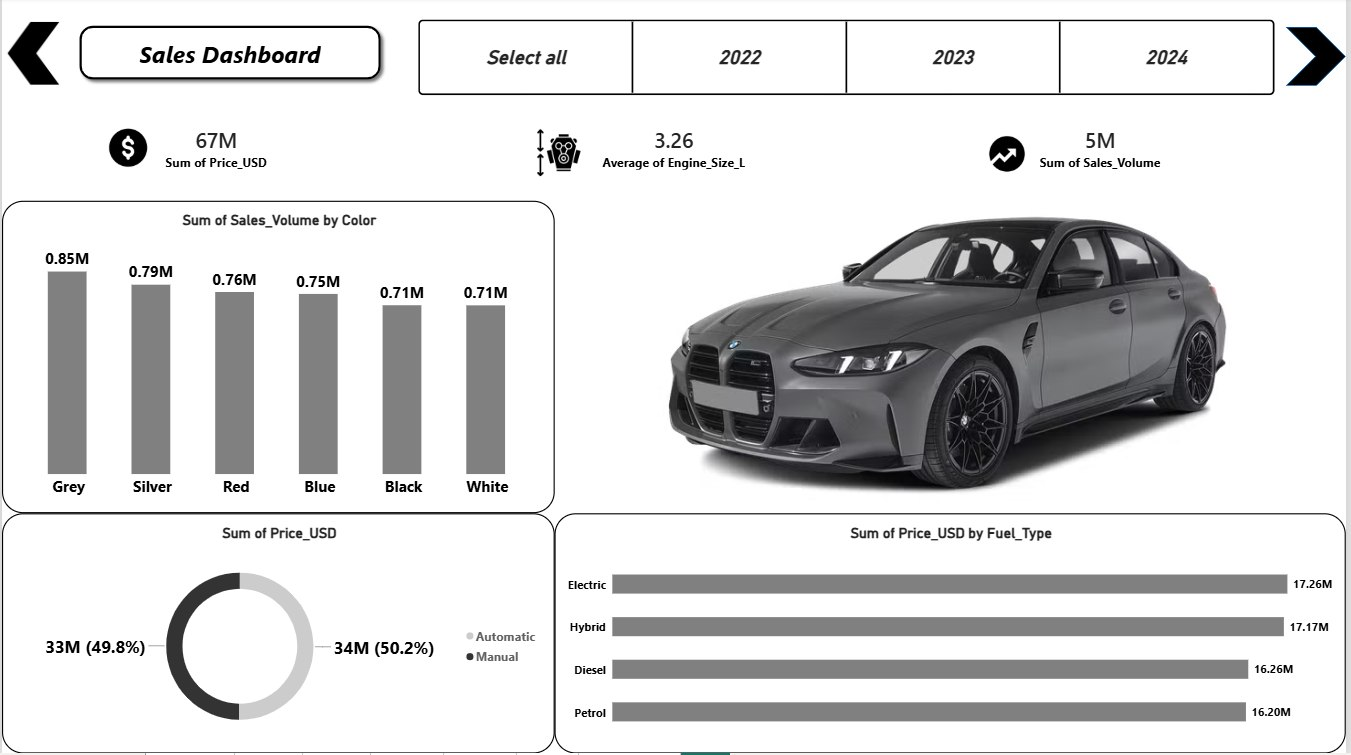

What the dashboard file says about the page in this screenshot:
{"tool":"powerbi","page":{"name":"M3","canvas":[1920,1080],"ordinal":3},"visuals":[{"type":"shape","box":[101.8,32.1,448.2,94.6],"z":0},{"type":"advancedSlicerVisual","fields":{"Values":["BMW_Car_Sales_Classification - BMW_Car_Sales_Classification.Year"]},"box":[594.6,32.1,1226.8,108.9],"z":1000},{"type":"cardVisual","fields":{"Data":["Sum(BMW_Car_Sales_Classification - BMW_Car_Sales_Classification.Price_USD)"]},"box":[82.1,141.1,448,150],"z":2000},{"type":"cardVisual","fields":{"Data":["Sum(BMW_Car_Sales_Classification - BMW_Car_Sales_Classification.Sales_Volume)"]},"box":[1344.6,141.1,448,150],"z":3000},{"type":"cardVisual","fields":{"Data":["Avg(BMW_Car_Sales_Classification - BMW_Car_Sales_Classification.Engine_Size_L)"]},"box":[735.7,141.1,448,150],"z":4000},{"type":"image","box":[148.2,185.7,64.3,58.9],"z":5000},{"type":"image","box":[703.6,185.7,183.9,73.2],"z":6000},{"type":"image","box":[1405.4,185.7,60.7,76.8],"z":7000},{"type":"image","box":[789.3,200,1123.2,626.8],"z":8000},{"type":"columnChart","fields":{"Category":["BMW_Car_Sales_Classification - BMW_Car_Sales_Classification.Color"],"Y":["Sum(BMW_Car_Sales_Classification - BMW_Car_Sales_Classification.Sales_Volume)"]},"box":[0,291.1,789.3,446.4],"z":9000},{"type":"donutChart","title":"Sum of Price_USD ","fields":{"Category":["BMW_Car_Sales_Classification - BMW_Car_Sales_Classification.Transmission"],"Y":["Sum(BMW_Car_Sales_Classification - BMW_Car_Sales_Classification.Price_USD)"]},"box":[0,737.5,789.3,342.9],"z":10000},{"type":"barChart","fields":{"Category":["BMW_Car_Sales_Classification - BMW_Car_Sales_Classification.Fuel_Type"],"Y":["Sum(BMW_Car_Sales_Classification - BMW_Car_Sales_Classification.Price_USD)"]},"box":[789.3,737.5,1130.4,342.9],"z":11000},{"type":"shape","box":[1833.9,42.9,85.7,83.9],"z":11001},{"type":"image","box":[0,19.6,89.3,121.4],"z":11002}]}

Visuals, with their boxes in screenshot pixels (x1, y1, x2, y2), scaled from the page's 1920x1080 canvas onto the 1351x755 screenshot:
shape: {"left": 72, "top": 22, "right": 387, "bottom": 89}
advancedSlicerVisual - BMW_Car_Sales_Classification - BMW_Car_Sales_Classification.Year: {"left": 418, "top": 22, "right": 1282, "bottom": 99}
cardVisual - Sum(BMW_Car_Sales_Classification - BMW_Car_Sales_Classification.Price_USD): {"left": 58, "top": 99, "right": 373, "bottom": 204}
cardVisual - Sum(BMW_Car_Sales_Classification - BMW_Car_Sales_Classification.Sales_Volume): {"left": 946, "top": 99, "right": 1261, "bottom": 204}
cardVisual - Avg(BMW_Car_Sales_Classification - BMW_Car_Sales_Classification.Engine_Size_L): {"left": 518, "top": 99, "right": 833, "bottom": 204}
image: {"left": 104, "top": 130, "right": 150, "bottom": 171}
image: {"left": 495, "top": 130, "right": 624, "bottom": 181}
image: {"left": 989, "top": 130, "right": 1032, "bottom": 184}
image: {"left": 555, "top": 140, "right": 1346, "bottom": 578}
columnChart - BMW_Car_Sales_Classification - BMW_Car_Sales_Classification.Color x Sum(BMW_Car_Sales_Classification - BMW_Car_Sales_Classification.Sales_Volume): {"left": 0, "top": 204, "right": 555, "bottom": 516}
"Sum of Price_USD " donutChart: {"left": 0, "top": 516, "right": 555, "bottom": 754}
barChart - BMW_Car_Sales_Classification - BMW_Car_Sales_Classification.Fuel_Type x Sum(BMW_Car_Sales_Classification - BMW_Car_Sales_Classification.Price_USD): {"left": 555, "top": 516, "right": 1350, "bottom": 754}
shape: {"left": 1290, "top": 30, "right": 1350, "bottom": 89}
image: {"left": 0, "top": 14, "right": 63, "bottom": 99}
